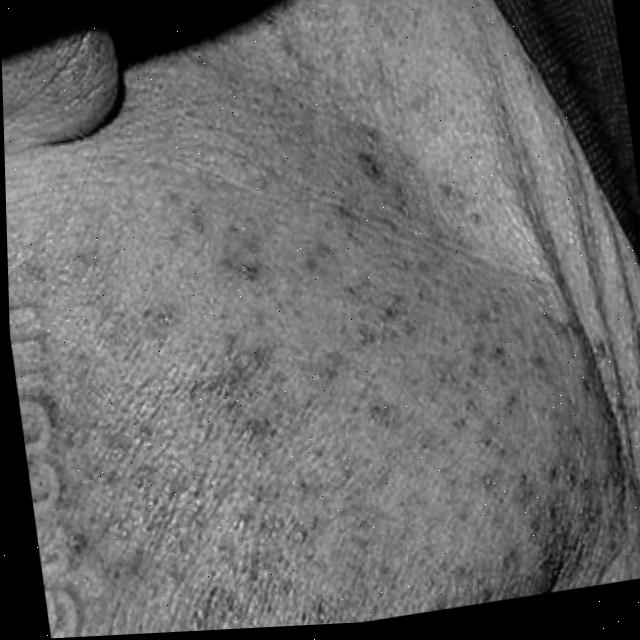Rosacea: (21, 197, 605, 639)
